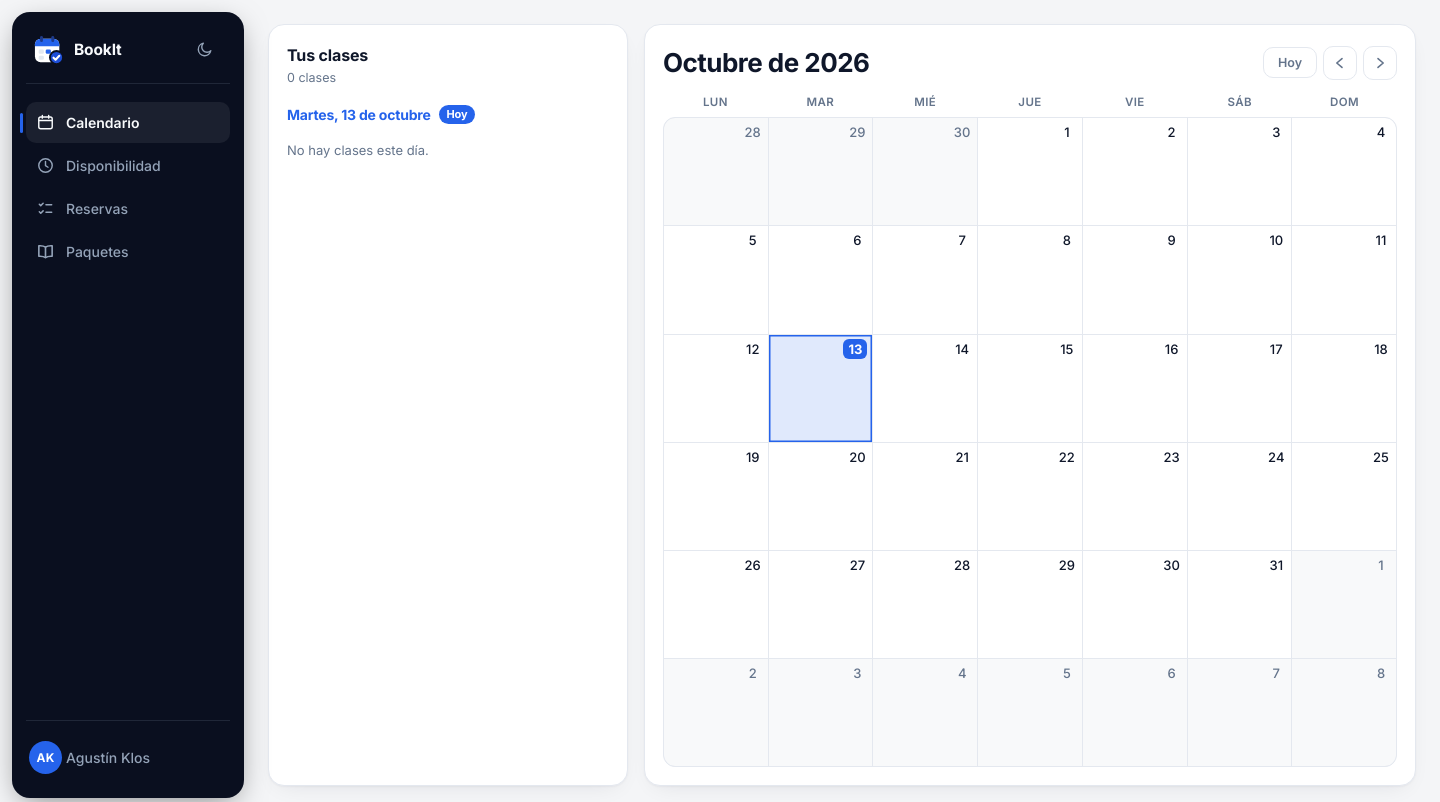
Scenario: App › el ícono de la barra lleva a la disponibilidad
Click the link labelled "Disponibilidad": (98, 166) [36,156,161,175]
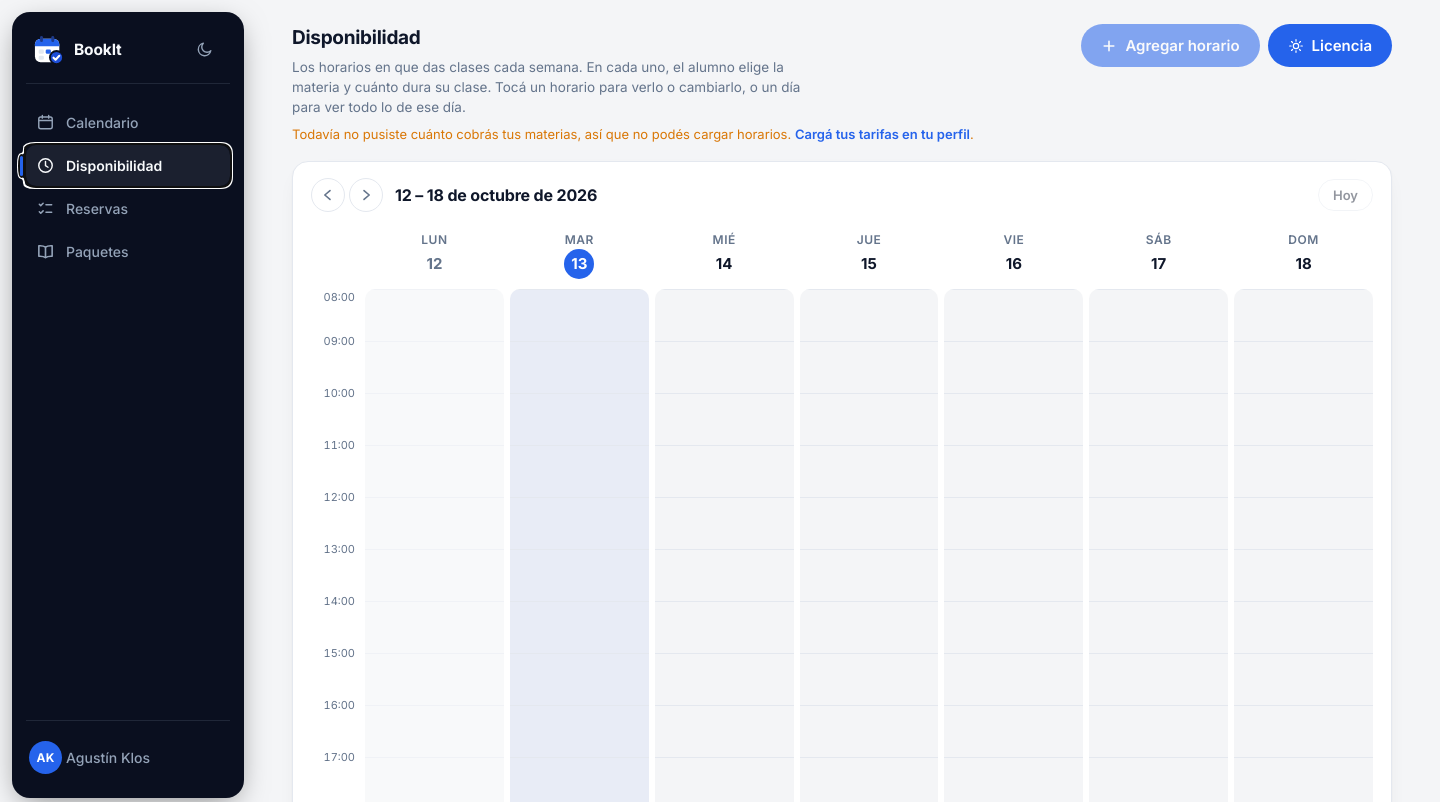
Expected: the heading "Disponibilidad" is shown, [292,26,420,49]
